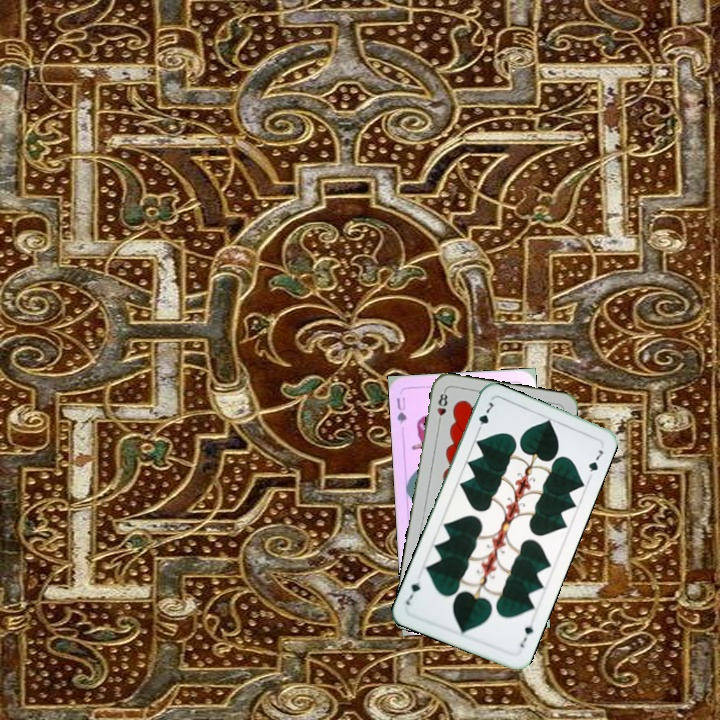G7: (473, 398, 496, 436), (516, 621, 536, 651)
GU: (392, 393, 409, 426)
H8: (433, 387, 450, 428)
